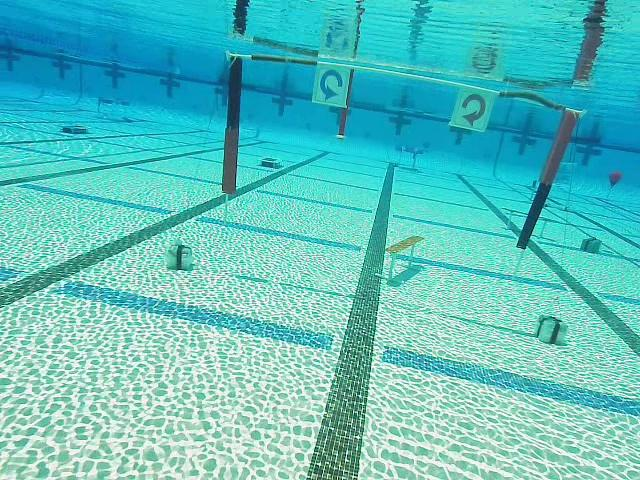buoy: (607, 171, 622, 187)
dropper: (259, 153, 284, 170), (63, 121, 89, 136)
gate: (222, 53, 582, 253)
gate_blue: (312, 64, 350, 108)
gate_leg_l: (222, 54, 242, 194)
gate_leg_r: (517, 110, 582, 251)
gate_red: (449, 88, 494, 133)
table: (393, 144, 424, 172)
